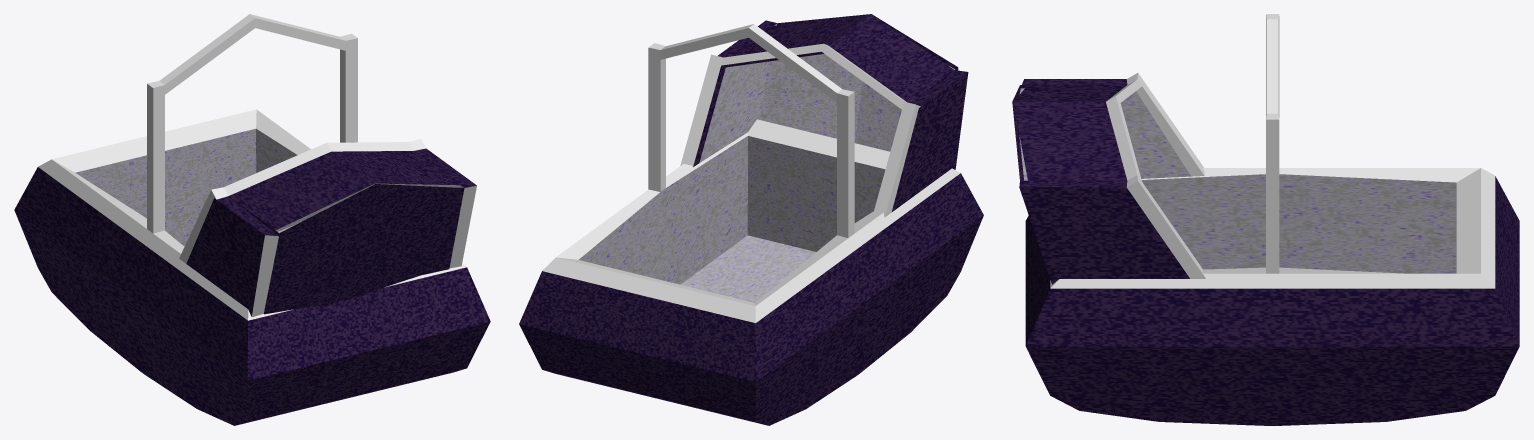
Rendered from GameJamStroller.fbx.
The picture shows the model from 3 angles, left to right: view 1: azimuth 30°, elevation 25°; view 2: azimuth 150°, elevation 25°; view 3: azimuth 270°, elevation 25°; orthographic projection. The views are drawn at different scales.
Parts seen in each view (by area): view 1: Cube; view 2: Cube; view 3: Cube.
Part boxes in pixels (left/top/right/bottom): Cube: left=14, top=14, right=490, bottom=425; Cube: left=519, top=14, right=983, bottom=425; Cube: left=1012, top=14, right=1519, bottom=425.
Size of the model in its own units: 154 by 200 by 263.
Materials: 3 (2 with a texture image).
